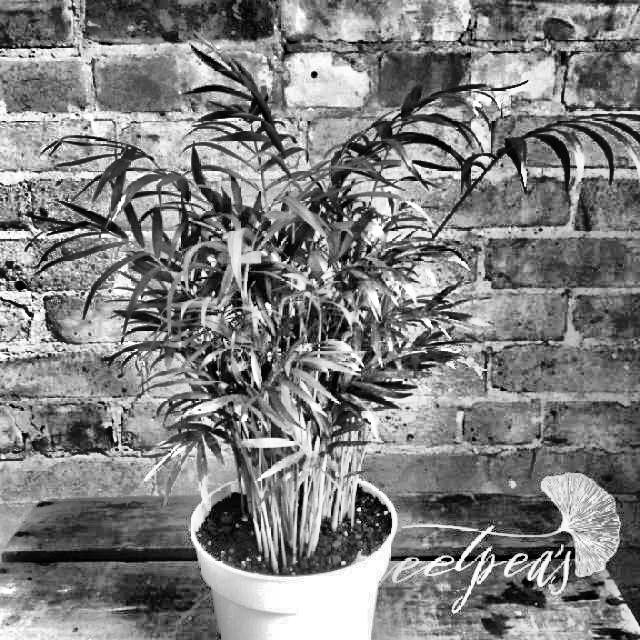plants: (66, 67, 404, 639)
